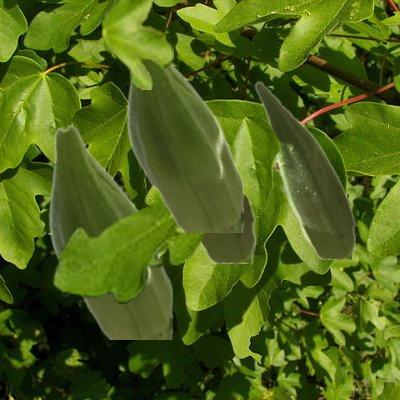okra: (48, 124, 171, 338), (126, 61, 242, 231), (254, 80, 354, 258), (200, 196, 254, 262)
